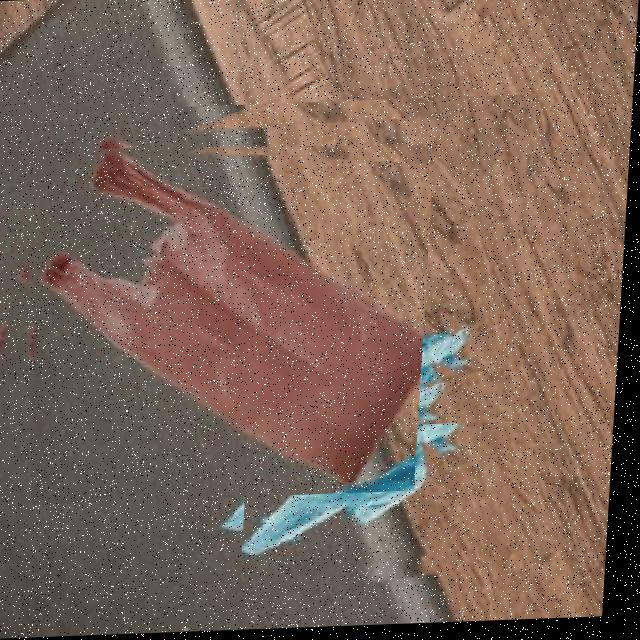plasticcover: (0, 97, 541, 635), (9, 137, 437, 505), (247, 424, 522, 584)
